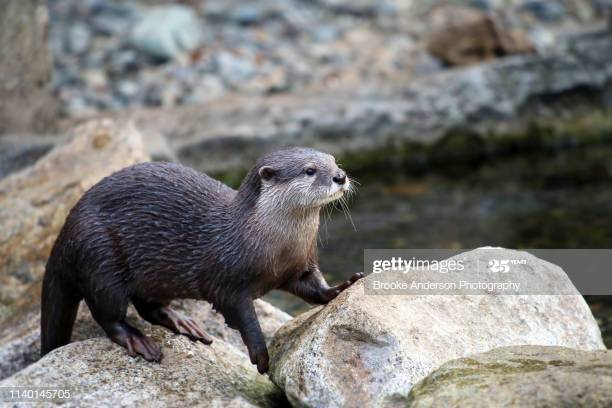otter: (49, 130, 407, 365)
